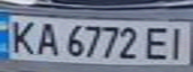2: (118, 24, 145, 61)
6: (63, 21, 87, 59)
7: (100, 22, 121, 60), (81, 22, 103, 58)
A: (30, 19, 63, 57)
E: (142, 24, 175, 61)
I: (163, 24, 193, 61)
K: (3, 17, 39, 55)
